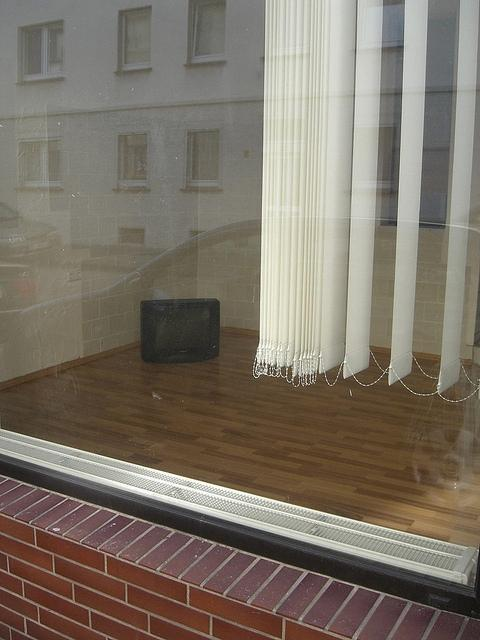car: (1, 202, 64, 262)
